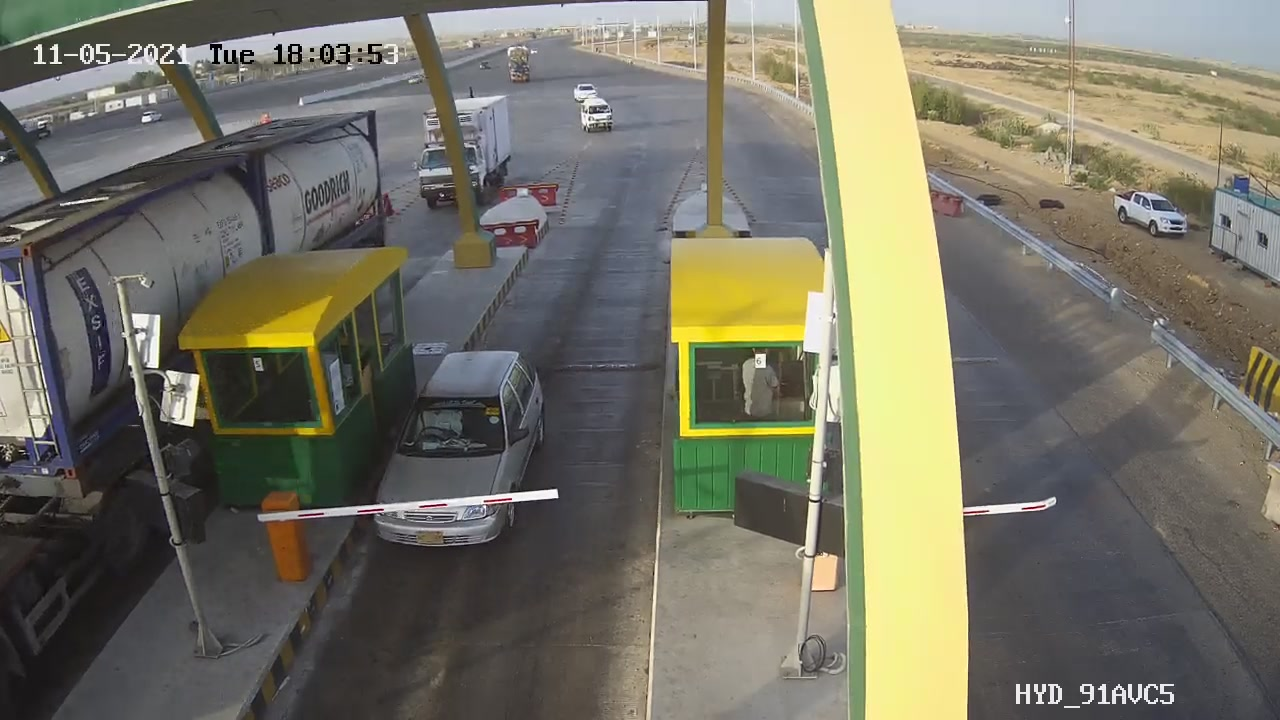F1: (356, 329, 577, 573)
